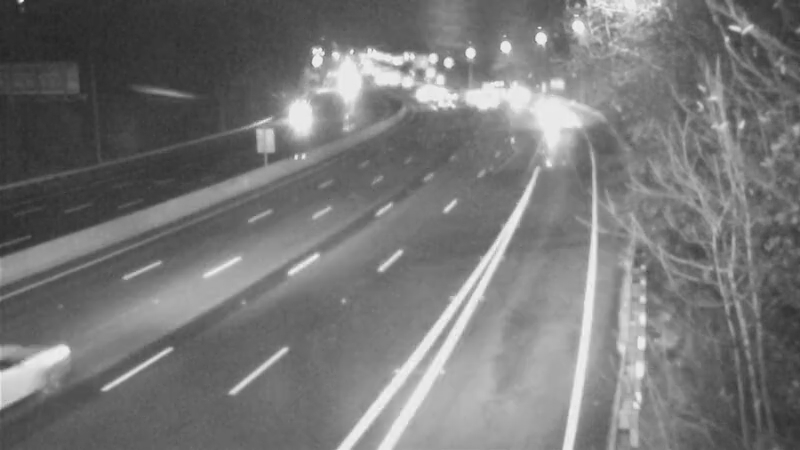vehicle: (470, 62, 520, 112), (397, 70, 447, 120), (490, 63, 540, 113), (456, 75, 506, 125), (517, 76, 567, 126), (415, 82, 465, 132), (528, 93, 578, 143), (269, 85, 319, 135)
